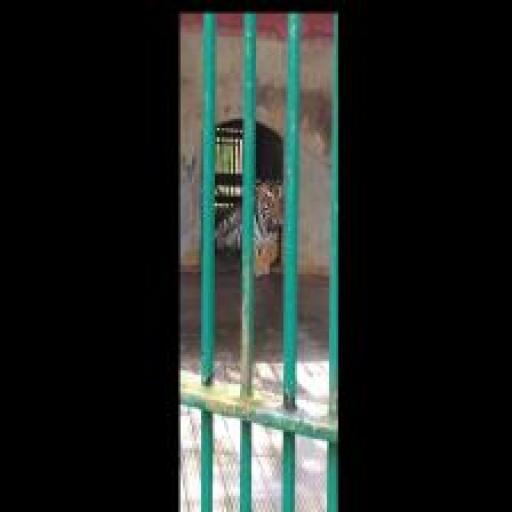Tiger: (215, 164, 286, 284)
